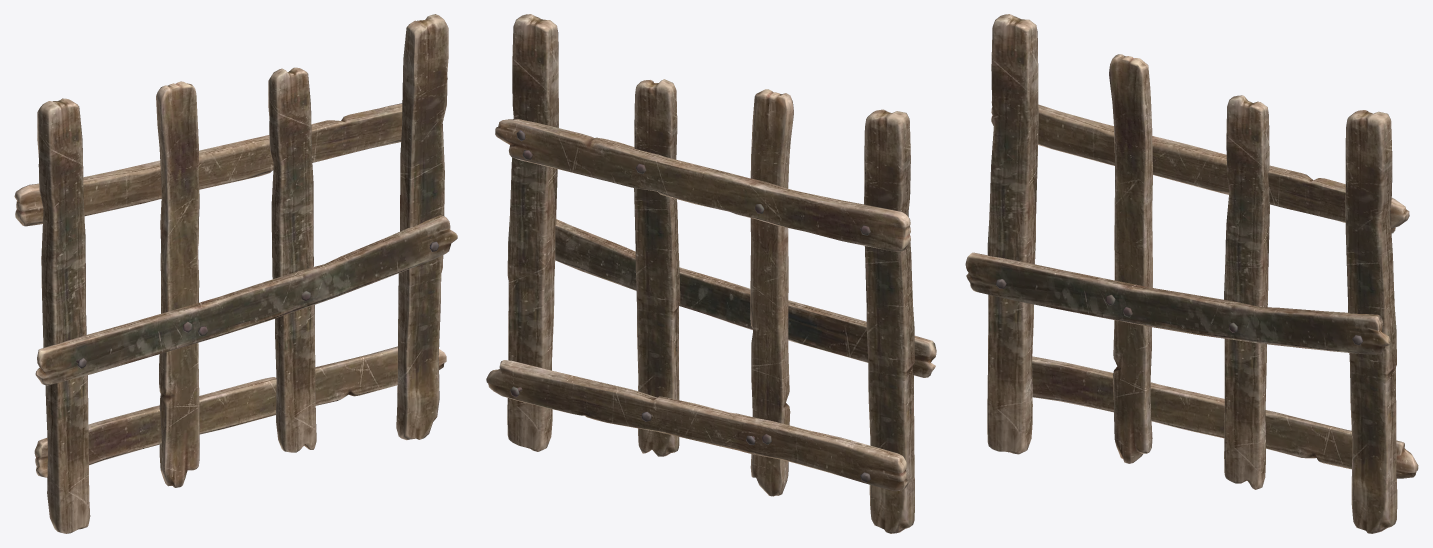
3 views of the same model, side by side, from view 1: azimuth 30°, elevation 25°; view 2: azimuth 150°, elevation 25°; view 3: azimuth 330°, elevation 25° (orthographic).
Visible parts, largest first — view 1: SM_BB_T2_Fence_Simple_Middle_LOD0; view 2: SM_BB_T2_Fence_Simple_Middle_LOD0; view 3: SM_BB_T2_Fence_Simple_Middle_LOD0.
Part boxes in pixels (left/top/right/bottom): SM_BB_T2_Fence_Simple_Middle_LOD0: left=14, top=14, right=457, bottom=533; SM_BB_T2_Fence_Simple_Middle_LOD0: left=486, top=14, right=936, bottom=533; SM_BB_T2_Fence_Simple_Middle_LOD0: left=965, top=14, right=1418, bottom=533.
Bounding box in the file's own units: 1.57 × 1.49 × 0.2382.
1 material, 1 textured.
